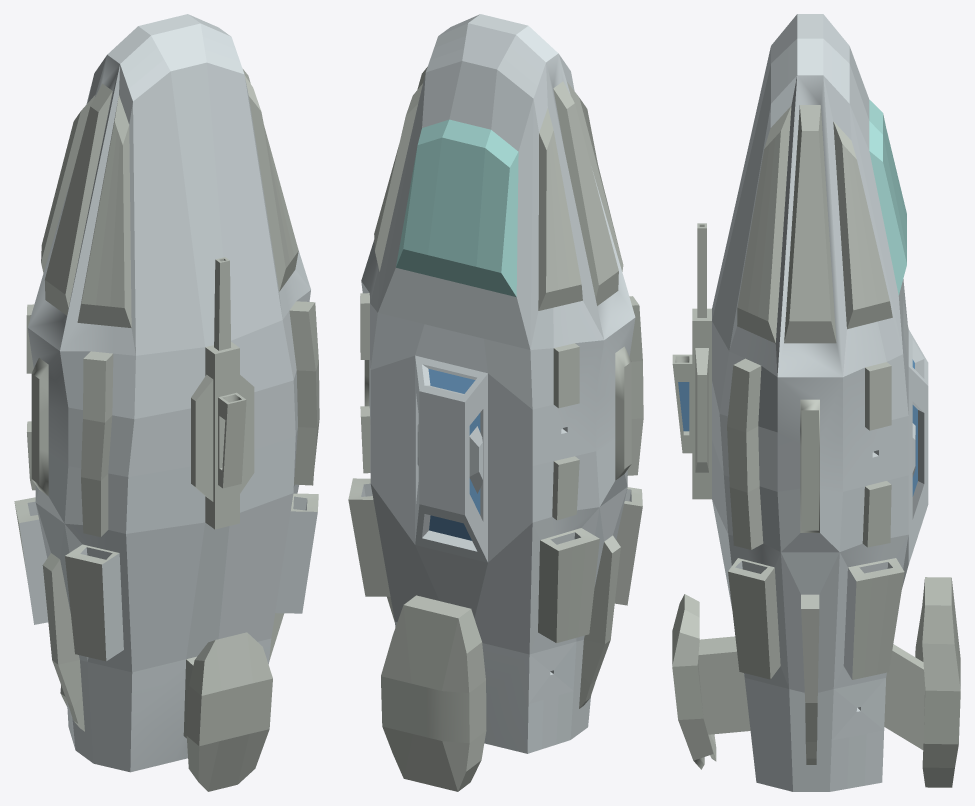
Rendered from SpaceShip_0.fbx.
3 views of the same model, side by side, from view 1: azimuth 30°, elevation 25°; view 2: azimuth 150°, elevation 25°; view 3: azimuth 270°, elevation 25° (orthographic). The views are drawn at different scales.
Visible parts, largest first — view 1: Cube; view 2: Cube; view 3: Cube.
Boxes of the visible parts, <box> form: Cube: <box>14,14,319,791</box>; Cube: <box>348,14,643,791</box>; Cube: <box>672,14,960,791</box>.
Bounding box in the file's own units: 320 × 839 × 294.
